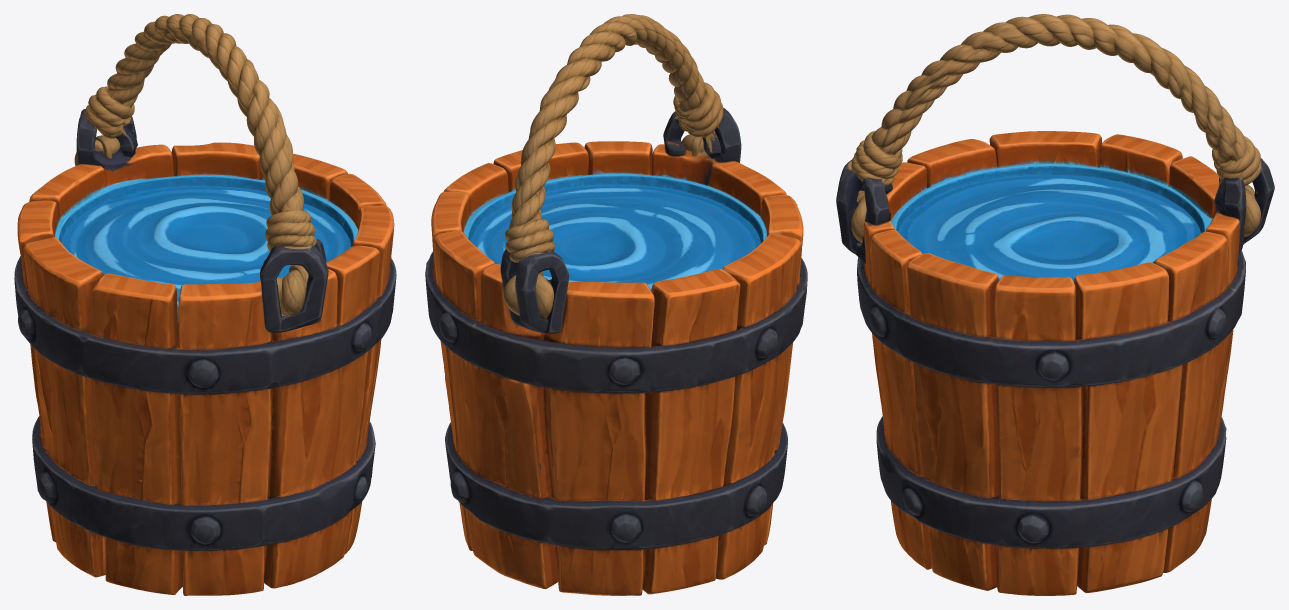
The model's file is bucket_body.glb.
3 views of the same model, side by side, from view 1: azimuth 30°, elevation 25°; view 2: azimuth 150°, elevation 25°; view 3: azimuth 270°, elevation 25° (orthographic). The views are drawn at different scales.
Parts seen in each view (by area): view 1: Mesh_0; view 2: Mesh_0; view 3: Mesh_0.
Part boxes in pixels (<box>): Mesh_0: <box>14,14,396,595</box>; Mesh_0: <box>425,14,807,595</box>; Mesh_0: <box>836,14,1274,595</box>.
Bounding box in the file's own units: 0.1569 × 0.22 × 0.1684.
1 material, 1 textured.
